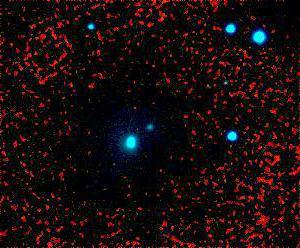star: (195, 70, 225, 100)
